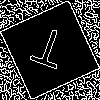T: (25, 25, 70, 79)
